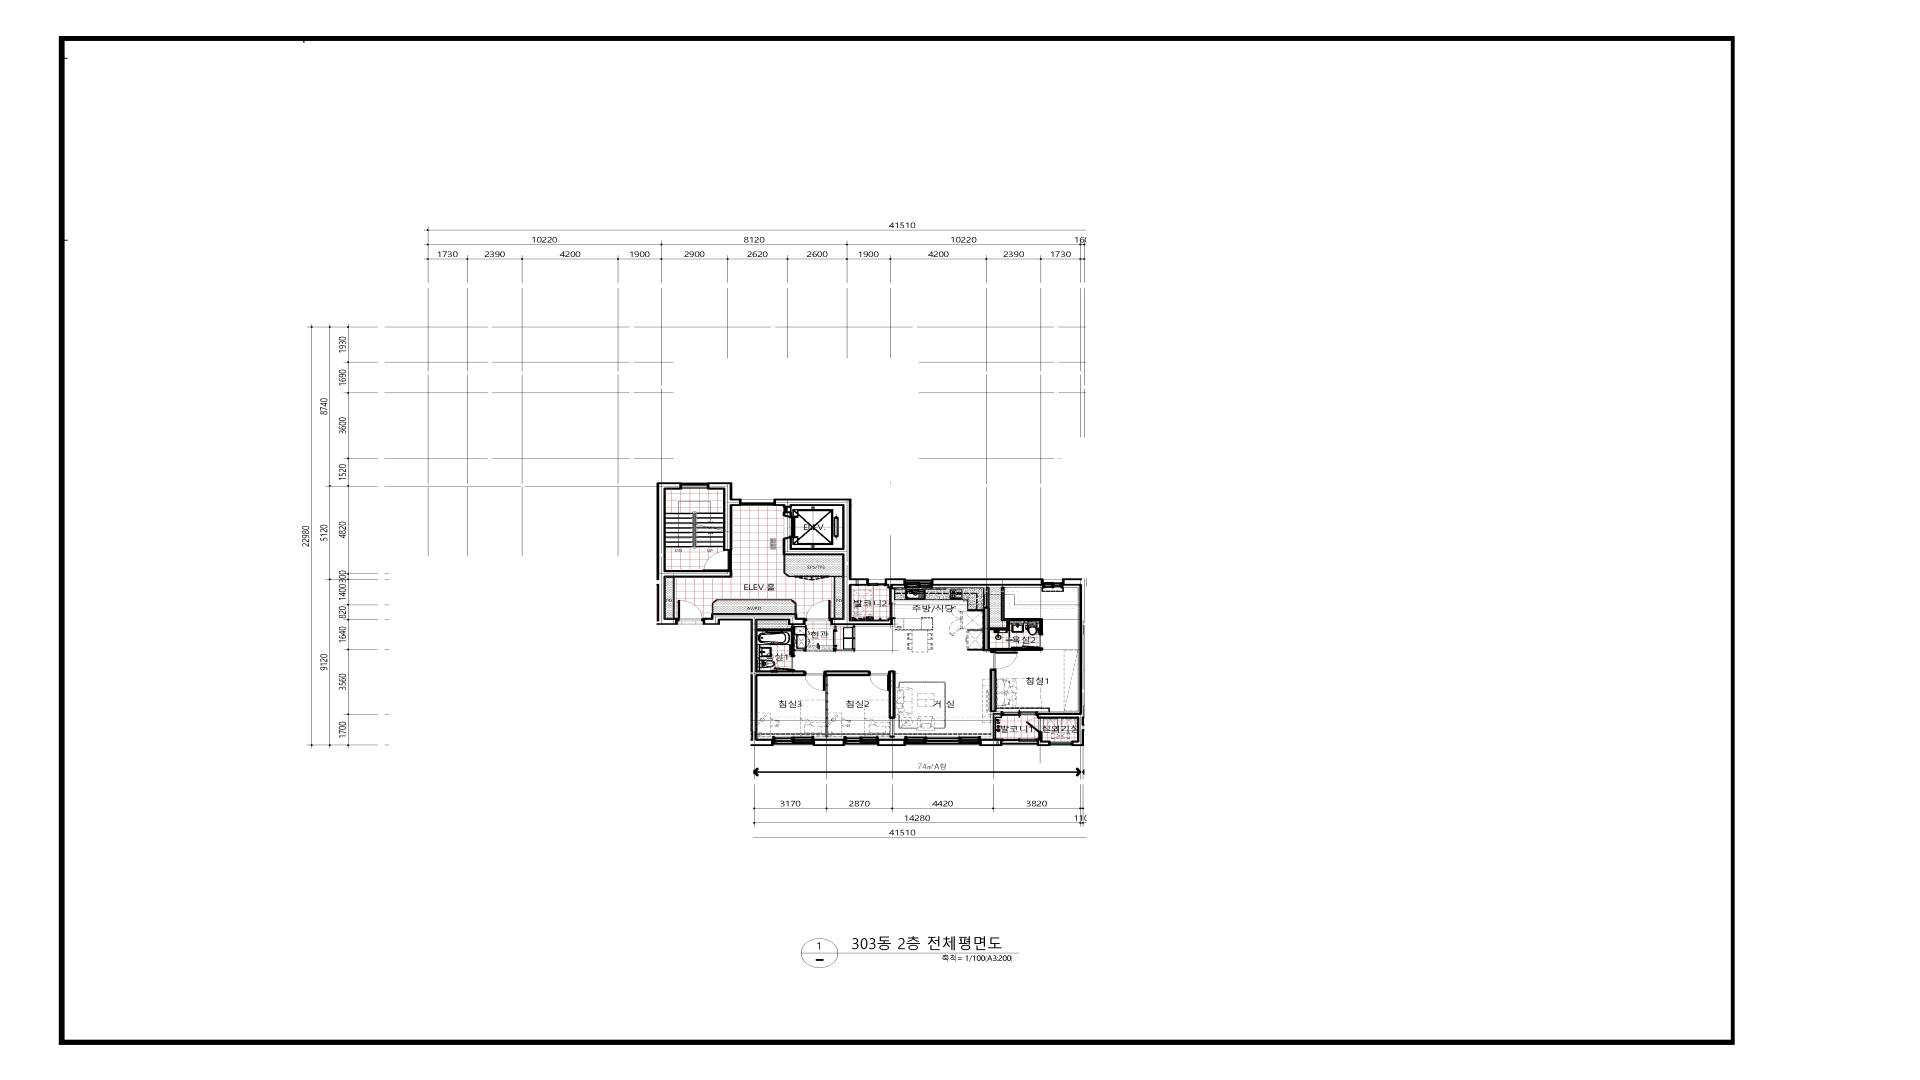door: (703, 551, 732, 570), (990, 651, 1018, 669), (806, 600, 830, 621), (804, 670, 825, 691), (869, 671, 889, 691), (774, 655, 795, 671), (1023, 634, 1043, 648), (1026, 719, 1043, 732), (794, 575, 829, 580)
wall: (773, 499, 893, 625), (702, 613, 806, 746), (657, 482, 732, 625), (1037, 578, 1084, 746), (967, 587, 1043, 651), (825, 670, 869, 738), (707, 483, 742, 551), (757, 625, 806, 655), (712, 599, 796, 613), (931, 578, 1043, 586), (833, 625, 855, 651), (829, 576, 842, 618), (889, 671, 895, 738), (990, 669, 997, 712), (783, 555, 794, 577), (993, 713, 1002, 738), (813, 739, 845, 746), (885, 578, 906, 588), (877, 739, 906, 746), (979, 738, 1002, 746), (990, 648, 1043, 651), (1037, 739, 1050, 746), (673, 578, 675, 618), (783, 512, 792, 518), (1038, 732, 1043, 739), (834, 626, 837, 629)
window: (904, 736, 981, 745), (772, 736, 814, 745), (843, 736, 879, 745), (1002, 738, 1037, 745), (904, 579, 931, 588), (742, 500, 773, 506), (889, 588, 895, 619), (1001, 711, 1038, 716), (1043, 579, 1063, 588), (682, 483, 707, 489), (869, 579, 885, 586), (1050, 741, 1071, 745), (783, 506, 792, 512)
